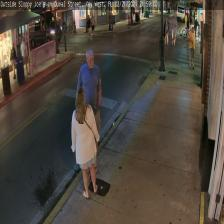person: (77, 48, 101, 179), (72, 87, 100, 197)
